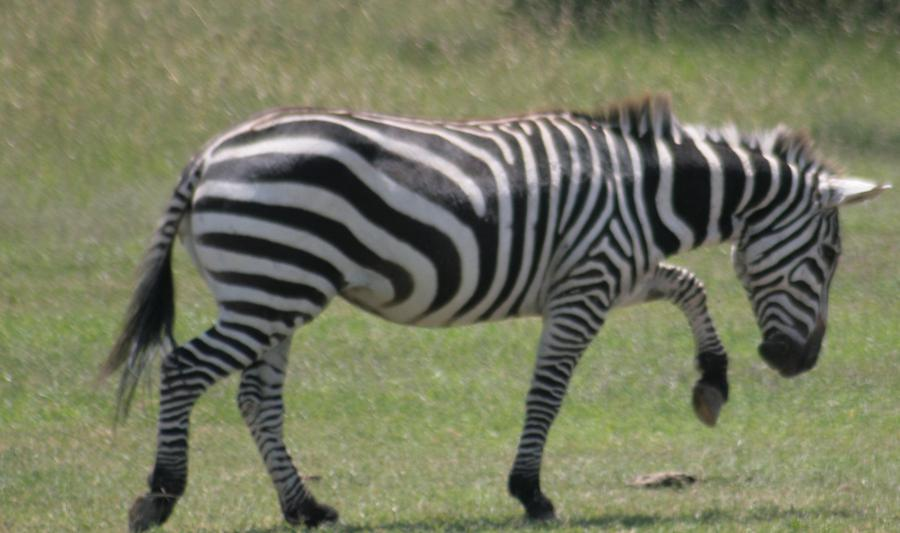zebra_plains: (182, 86, 646, 344)
